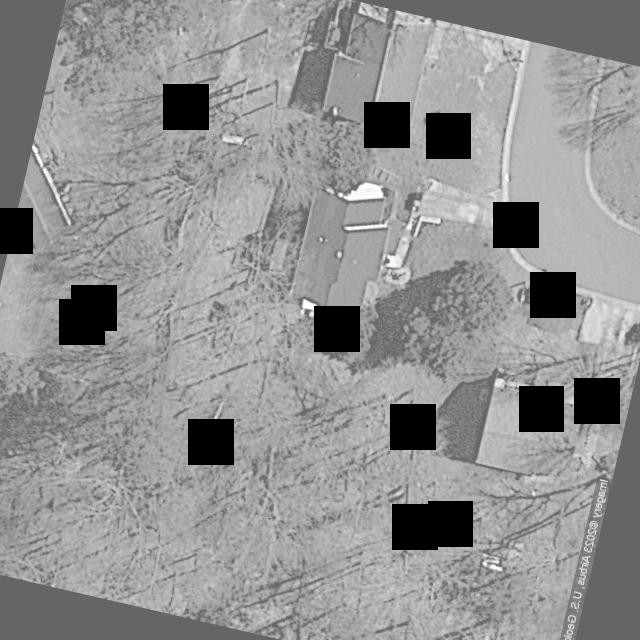Driveway: (384, 193, 478, 285)
House: (290, 175, 387, 317)
